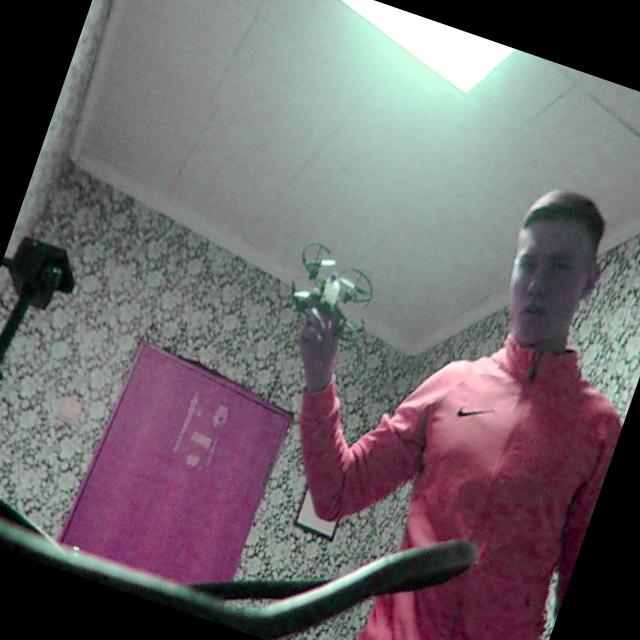drone: (266, 223, 402, 362)
